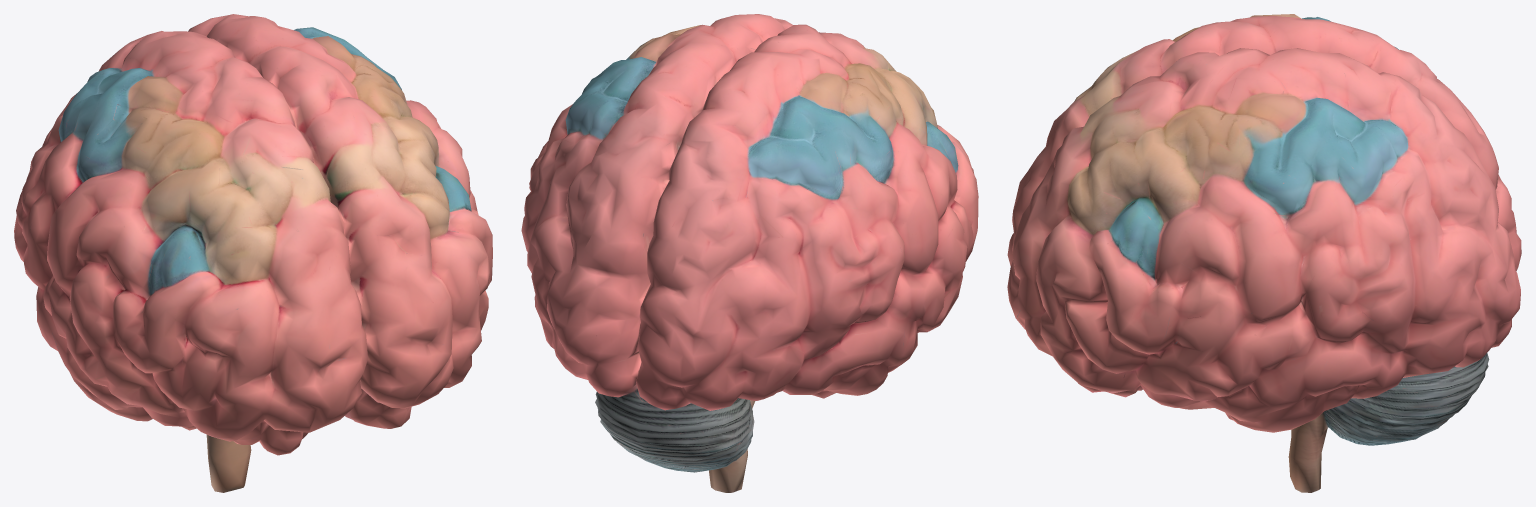
File: brain.glb
3 renders of one model, left to right at view 1: azimuth 30°, elevation 25°; view 2: azimuth 150°, elevation 25°; view 3: azimuth 270°, elevation 25°, orthographic. The views are drawn at different scales.
Parts seen in each view (by area): view 1: Mesh1.0; view 2: Mesh1.0; view 3: Mesh1.0.
Boxes of the visible parts, bbox=[...] form: Mesh1.0: bbox=[14, 14, 492, 492]; Mesh1.0: bbox=[521, 14, 978, 492]; Mesh1.0: bbox=[1007, 14, 1521, 492].
Bounding box in the file's own units: 1.68 × 1.84 × 1.91.
Materials: 1 (1 with a texture image).
